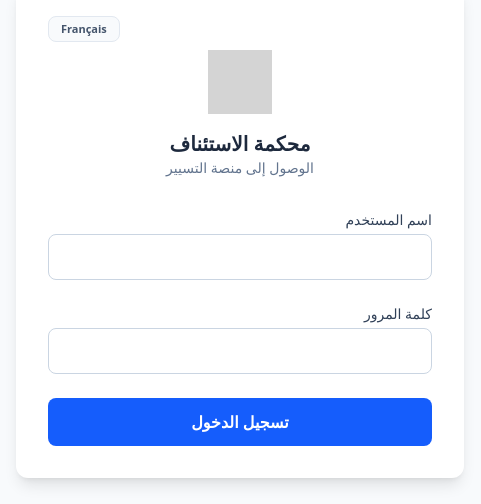
it: Application E2E Tests › 1. Login Page › should switch to French when clicking language toggle
The image size is (481, 504).
Click the button "Français" at (84, 30), box [48,16,120,43]
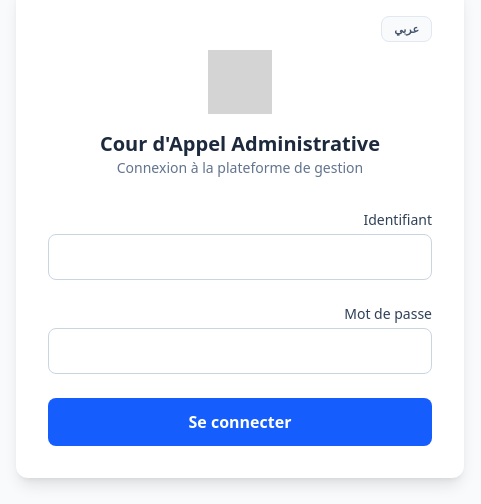
Expected: the heading "Cour d'Appel Administrative" is shown, [100,130,380,157]
